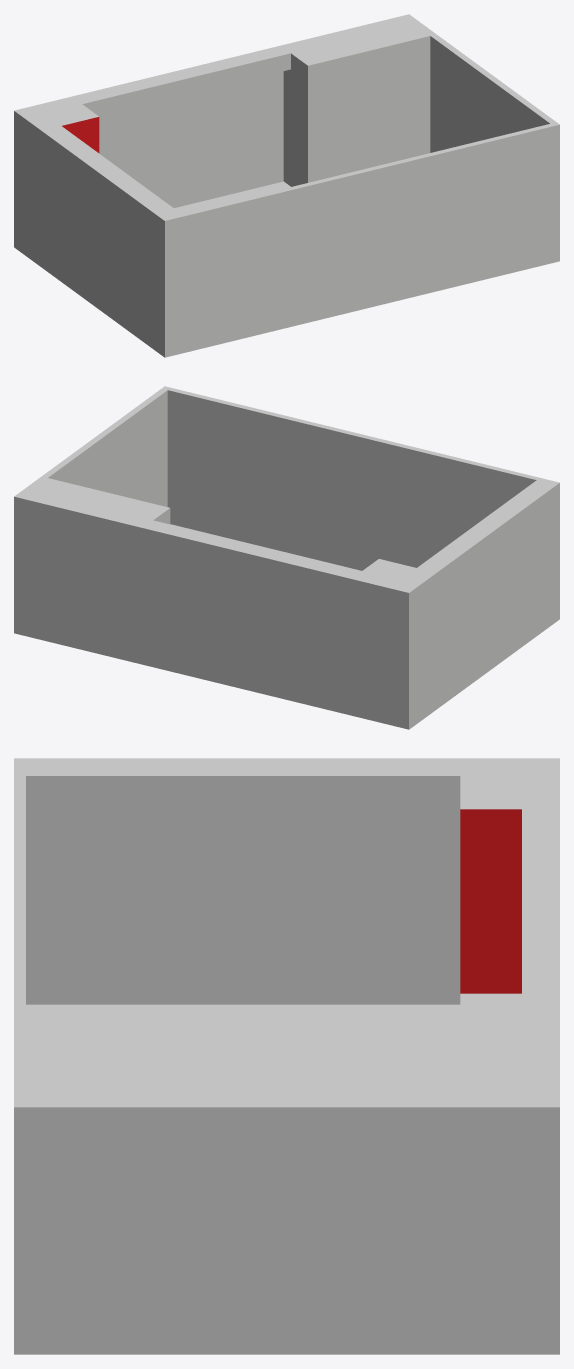
The picture shows the model from 3 angles, top to bottom: view 1: azimuth 30°, elevation 25°; view 2: azimuth 150°, elevation 25°; view 3: azimuth 270°, elevation 25°; orthographic projection. The views are drawn at different scales.
Parts seen in each view (by area): view 1: 外枠; view 2: 外枠; view 3: 外枠.
Part boxes in pixels (x1,y1,x2,y2): 外枠: (14, 14, 559, 357); 外枠: (14, 386, 559, 729); 外枠: (14, 758, 559, 1354).
Size of the model in its own units: 1210 by 400 by 800.
